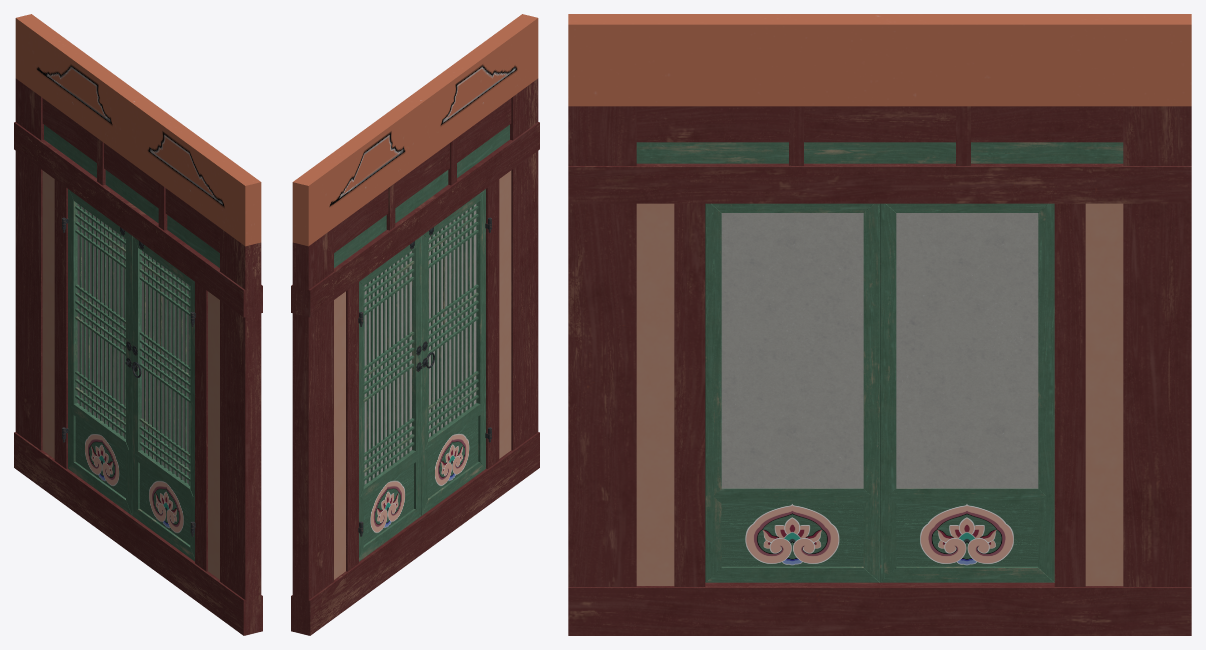
Rendered from SM_CGJ_Wall01d.fbx.
3 views of the same model, side by side, from view 1: azimuth 30°, elevation 25°; view 2: azimuth 150°, elevation 25°; view 3: azimuth 270°, elevation 25° (orthographic). The views are drawn at different scales.
Visible parts, largest first — view 1: SM_CGJ_Wall01d; view 2: SM_CGJ_Wall01d; view 3: SM_CGJ_Wall01d.
Part boxes in pixels (box(x1,y1,x2,y2)): SM_CGJ_Wall01d: box(14, 14, 262, 635); SM_CGJ_Wall01d: box(291, 14, 539, 635); SM_CGJ_Wall01d: box(568, 14, 1191, 635).
Size of the model in its own units: 13.46 by 250 by 270.
Materials: 7 (7 with a texture image).
